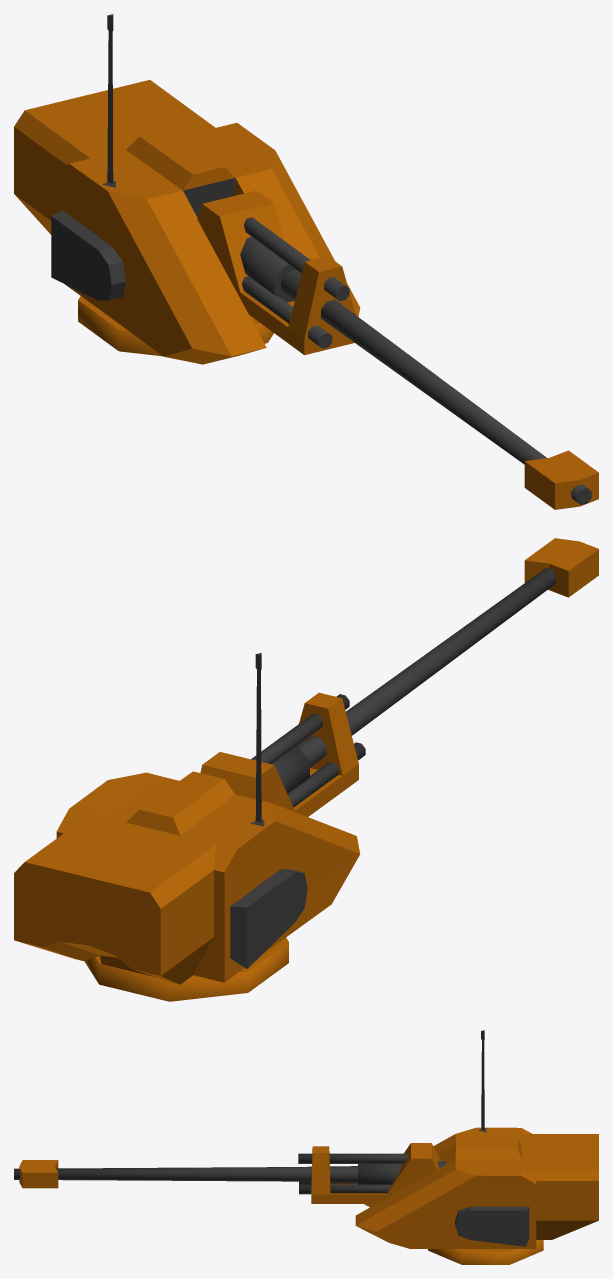
File: heavytruck_gun.fbx
3 views of the same model, one above another, from view 1: azimuth 30°, elevation 25°; view 2: azimuth 150°, elevation 25°; view 3: azimuth 270°, elevation 25° (orthographic). The views are drawn at different scales.
Visible parts, largest first — view 1: Turret; view 2: Turret; view 3: Turret.
Part boxes in pixels (left/top/right/bottom): Turret: left=14, top=14, right=598, bottom=509; Turret: left=14, top=538, right=598, bottom=1001; Turret: left=14, top=1030, right=598, bottom=1264.
Size of the model in its own units: 366 by 571 by 1607.
